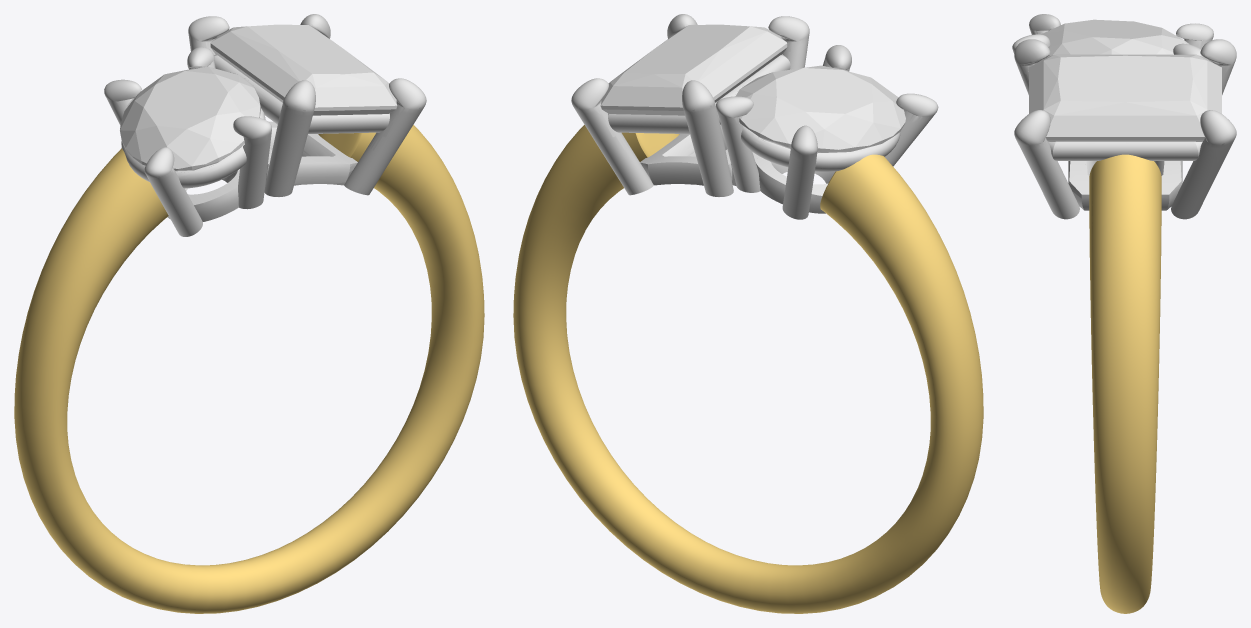
File: Zach_Neill_blender.glb
3 renders of one model, left to right at view 1: azimuth 30°, elevation 25°; view 2: azimuth 150°, elevation 25°; view 3: azimuth 270°, elevation 25°, orthographic.
Parts seen in each view (by area): view 1: YG band, PT Heads, diamonds, diamonds.001; view 2: YG band, PT Heads, diamonds, diamonds.001; view 3: YG band, diamonds.001, PT Heads, diamonds.
Part boxes in pixels (x1,y1,x2,y2): YG band: [14, 125, 484, 613]; PT Heads: [104, 14, 426, 236]; diamonds: [120, 66, 260, 171]; diamonds.001: [210, 24, 397, 115]; YG band: [513, 125, 983, 613]; PT Heads: [571, 14, 938, 219]; diamonds: [736, 65, 905, 152]; diamonds.001: [600, 24, 787, 115]; YG band: [1089, 154, 1161, 613]; diamonds.001: [1029, 54, 1221, 141]; PT Heads: [1012, 14, 1236, 219]; diamonds: [1041, 19, 1189, 57].
Bounding box in the file's own units: 19.7 × 22.69 × 8.36.
